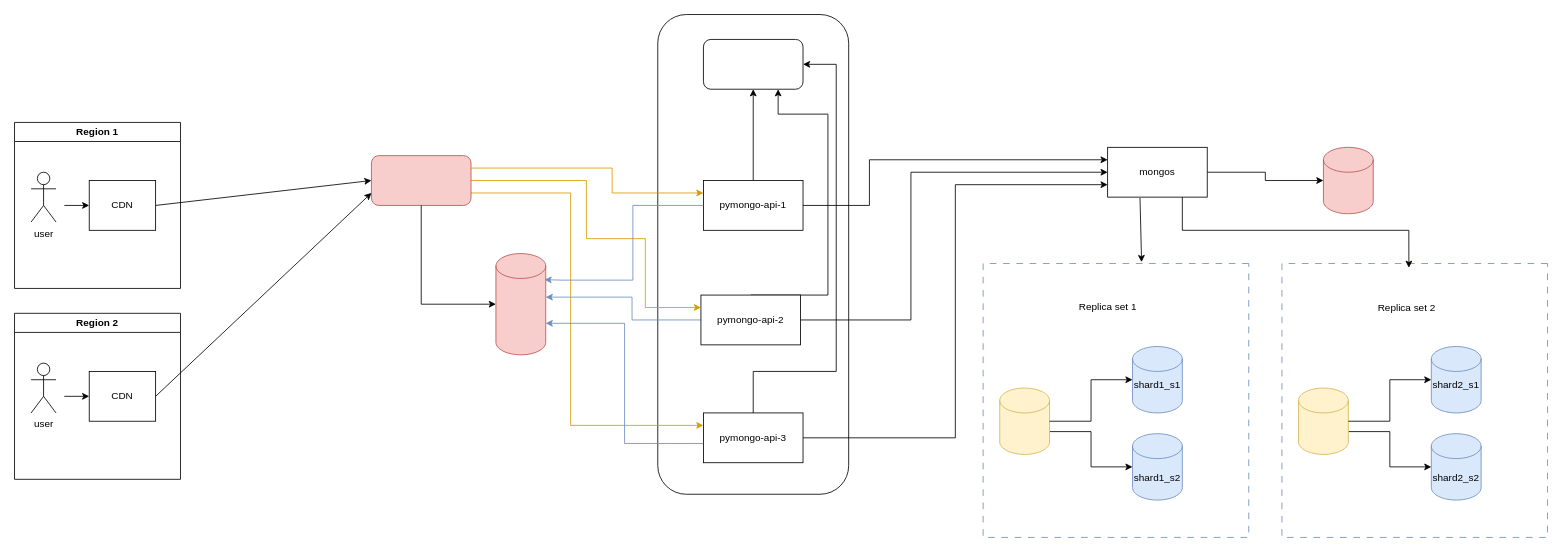
The diagram is 1562 pixels wide and 552 high, and some of its shapes have lost their labels. Here are the shapes that lost their labels. From the top down, the centre of each, then its label:
(x=753, y=64): redis
(x=421, y=180): API gateway
(x=1348, y=180): configSrv
(x=520, y=304): Consul
(x=1024, y=420): shard1_p
(x=1323, y=420): shard2_p
